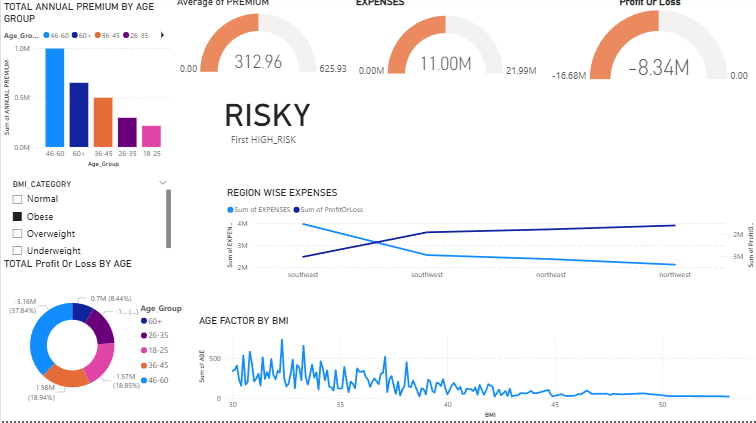

The page's visual inventory and layout, read from the dashboard file:
{"tool":"powerbi","page":{"name":"Page 1","canvas":[1280,720],"ordinal":0},"visuals":[{"type":"columnChart","title":"TOTAL ANNUAL PREMIUM BY AGE GROUP","fields":{"Category":["Medical insurance.Age_Group"],"Y":["Sum(Medical insurance.ANNUAL PREMIUM)"],"Series":["Medical insurance.Age_Group"]},"box":[0,8.5,292.9,286.1],"z":0},{"type":"donutChart","title":"TOTAL Profit Or Loss BY AGE","fields":{"Y":["Sum(Medical insurance.ProfitOrLoss)"],"Category":["Medical insurance.Age_Group"]},"box":[0,443.6,330.2,276],"z":1000},{"type":"lineChart","title":"AGE FACTOR BY BMI","fields":{"Y":["Sum(Medical insurance.AGE)"],"Category":["Medical insurance.BMI"]},"box":[330.2,540.1,949.8,179.5],"z":2000},{"type":"card","fields":{"Values":["Min(Medical insurance.HIGH_RISK)"]},"box":[311.5,152.4,968.5,105],"z":3000},{"type":"slicer","title":" AGE BMI CATEGORY","fields":{"Values":["Medical insurance.BMI_CATEGORY"]},"box":[6.8,304.8,286.1,138.8],"z":4000},{"type":"gauge","title":"Profit Or Loss","fields":{"Y":["Sum(Medical insurance.ProfitOrLoss)"]},"box":[917.7,0,362.3,150.7],"z":5000},{"type":"gauge","title":"EXPENSES","fields":{"Y":["Sum(Medical insurance.EXPENSES)"]},"box":[596,0,321.7,150.7],"z":6000},{"type":"lineChart","title":"REGION WISE EXPENSES ","fields":{"Category":["Medical insurance.REGION"],"Y":["Sum(Medical insurance.EXPENSES)"],"Y2":["Sum(Medical insurance.ProfitOrLoss)"]},"box":[377.6,323.4,902.4,165.9],"z":7000},{"type":"gauge","fields":{"Y":["Avg(Medical insurance.PREMIUM)"]},"box":[292.9,0,303.1,143.9],"z":8000}]}

Visuals, with their boxes in screenshot pixels (x1, y1, x2, y2), scaled from the page's 1280x720 canvas onto the 756x423 screenshot:
"TOTAL ANNUAL PREMIUM BY AGE GROUP" columnChart: 0:5:173:173
"TOTAL Profit Or Loss BY AGE" donutChart: 0:261:195:422
"AGE FACTOR BY BMI" lineChart: 195:317:755:422
card - Min(Medical insurance.HIGH_RISK): 184:90:755:151
" AGE BMI CATEGORY" slicer: 4:179:173:261
"Profit Or Loss" gauge: 542:0:755:89
"EXPENSES" gauge: 352:0:542:89
"REGION WISE EXPENSES " lineChart: 223:190:755:287
gauge - Avg(Medical insurance.PREMIUM): 173:0:352:85
